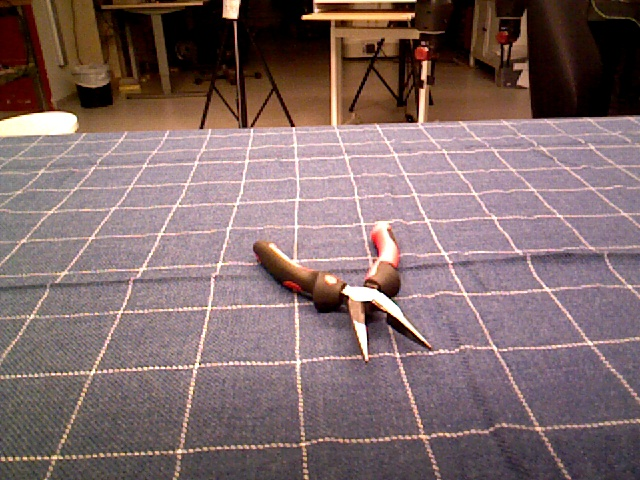plier1: (252, 222, 433, 364)
